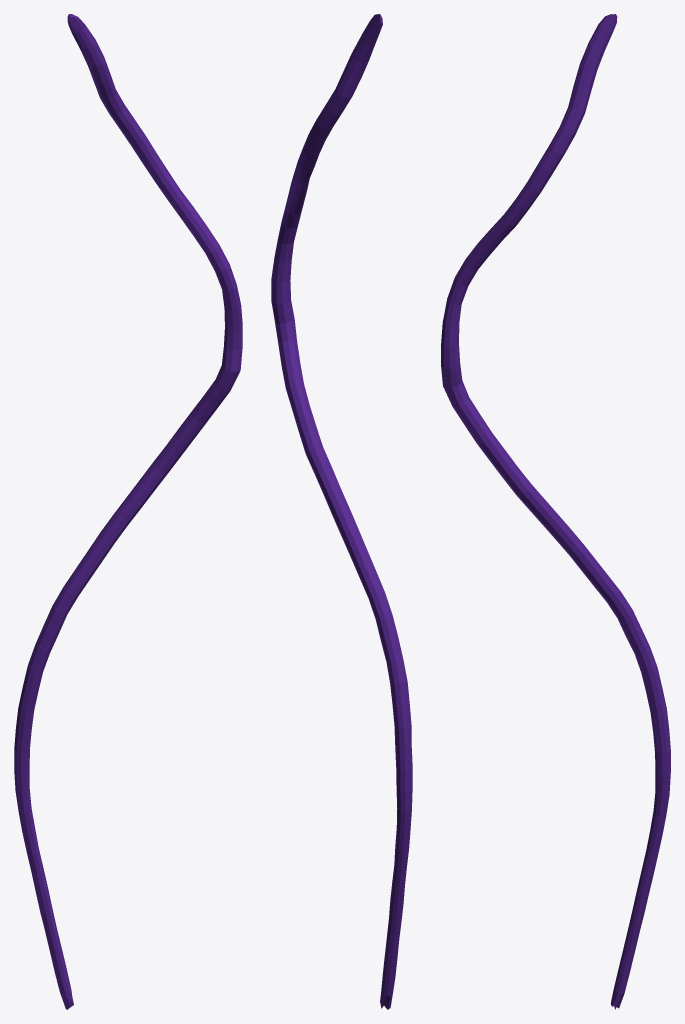
The model's file is Vagus_nerve_L.glb.
3 renders of one model, left to right at view 1: azimuth 90°, elevation 25°; view 2: azimuth 210°, elevation 25°; view 3: azimuth 270°, elevation 25°, orthographic.
Parts seen in each view (by area): view 1: Vagus_nerve_L.001; view 2: Vagus_nerve_L.001; view 3: Vagus_nerve_L.001.
Boxes of the visible parts, bbox=[...] form: Vagus_nerve_L.001: bbox=[14, 14, 242, 1009]; Vagus_nerve_L.001: bbox=[271, 14, 412, 1009]; Vagus_nerve_L.001: bbox=[441, 14, 670, 1009].
Bounding box in the file's own units: 0.0182 × 0.3724 × 0.0778.
Materials: 1 (1 with a texture image).
